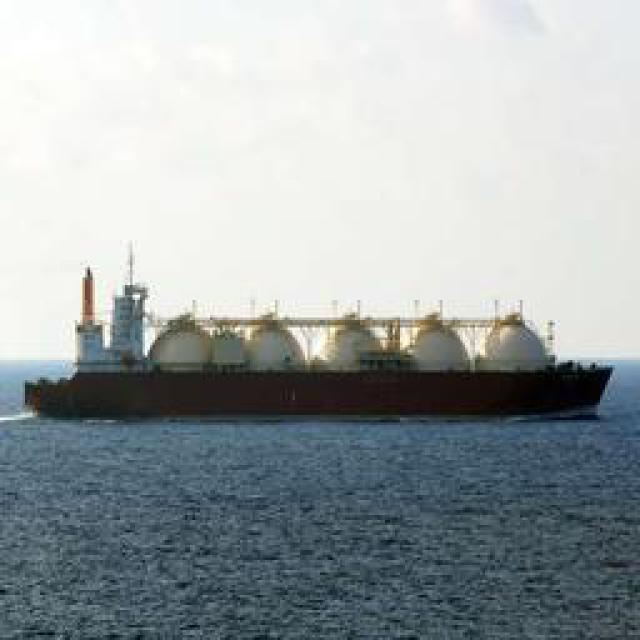Ship: (21, 242, 618, 427)
